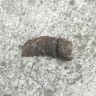Dog: (22, 36, 73, 60)
